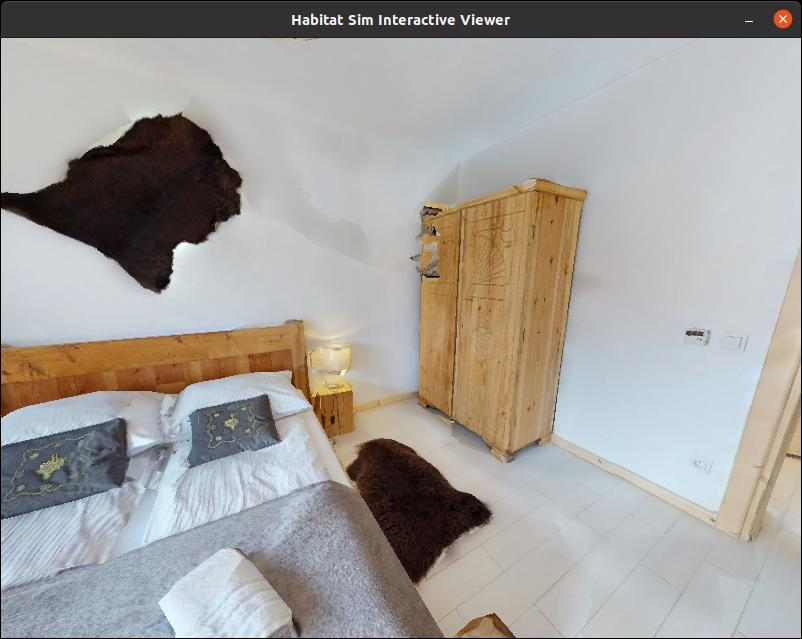bed: (0, 295, 475, 639)
